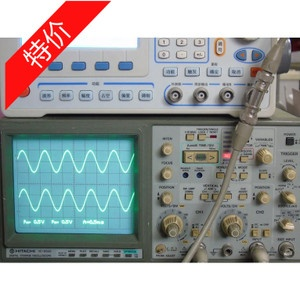Oscilloscope: (3, 114, 300, 265)
